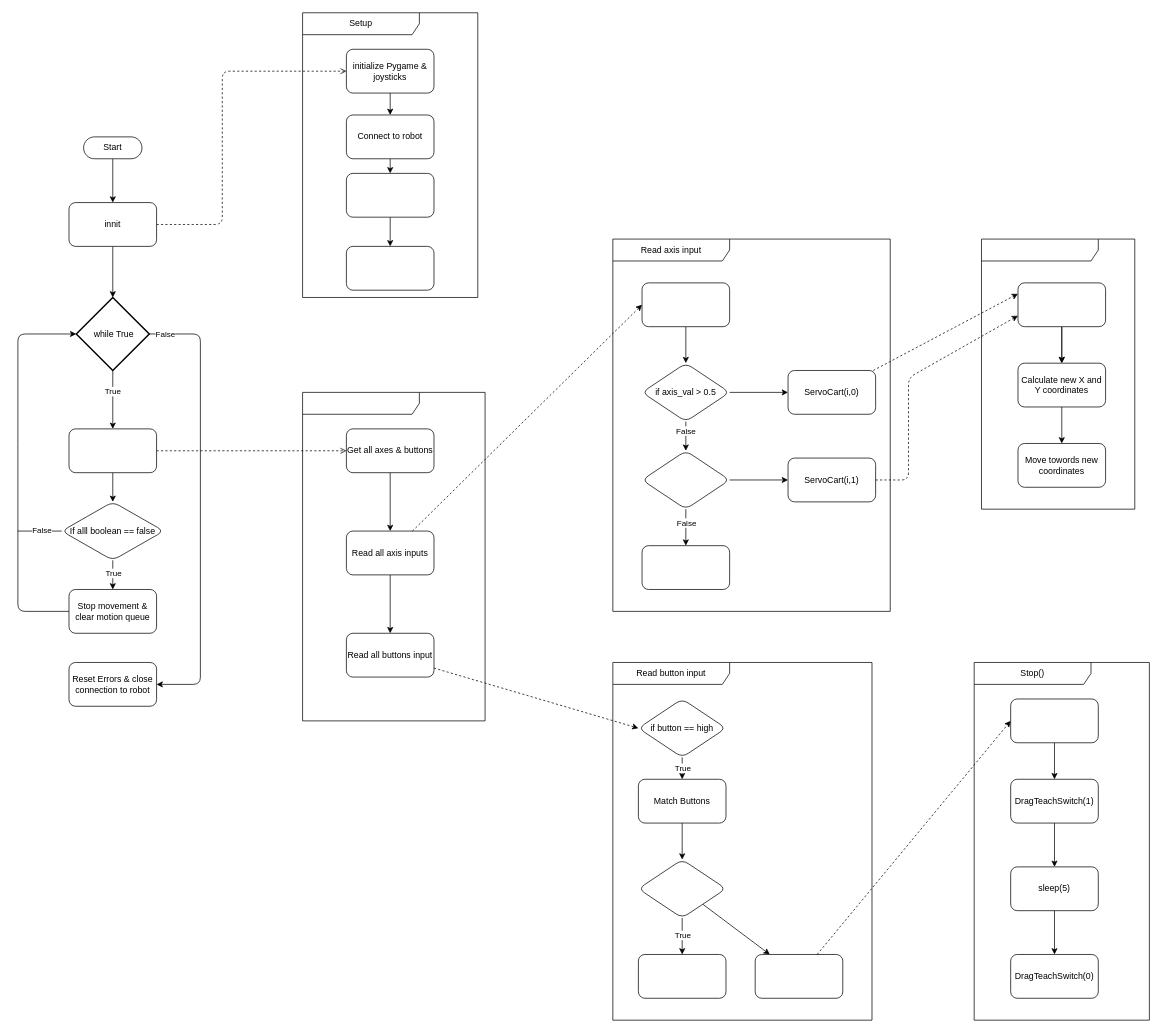
Some shapes in this 1162 by 1033 pixel diagram are drawn without their labels. Here are the shapes that lost their labels. From the top down, the box of each, then its label:
(346, 173, 434, 217): Initialize & activate gripper
(346, 246, 434, 290): Get currenct Angle and Radius
(641, 282, 730, 327): MatchAxes
(1017, 282, 1106, 327): Calculate step size on basis of axis_val and direction
(981, 238, 1135, 509): ServoCart(axis_val, direction)
(68, 428, 157, 473): ReadJoystick()
(641, 450, 730, 509): if axis_val < -0.5
(302, 392, 485, 721): ReadJoystick
(641, 545, 730, 589): Set boolean False
(1010, 698, 1098, 743): StopMotion()
(638, 859, 726, 918): if button != 15
(638, 954, 726, 998): MoveGripper corensponding way
(754, 954, 843, 998): Trigger emegency stop
